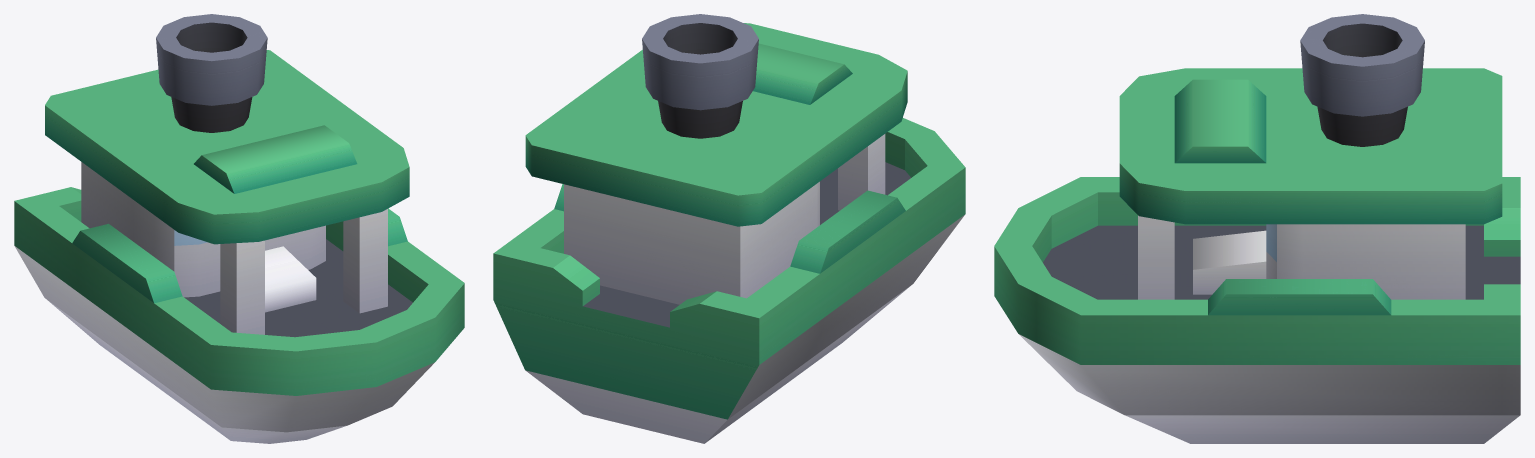
The model's file is boat-tug-b-transformed-transformed.glb.
3 renders of one model, left to right at view 1: azimuth 30°, elevation 25°; view 2: azimuth 150°, elevation 25°; view 3: azimuth 270°, elevation 25°, orthographic. The views are drawn at different scales.
Parts seen in each view (by area): view 1: boat-tug-b; view 2: boat-tug-b; view 3: boat-tug-b.
Boxes of the visible parts, x1,y1,x2,y2 form: boat-tug-b: [14, 14, 464, 443]; boat-tug-b: [493, 14, 965, 443]; boat-tug-b: [994, 14, 1520, 443].
Bounding box in the file's own units: 1.78 × 2.24 × 2.87.
1 material, 1 textured.
